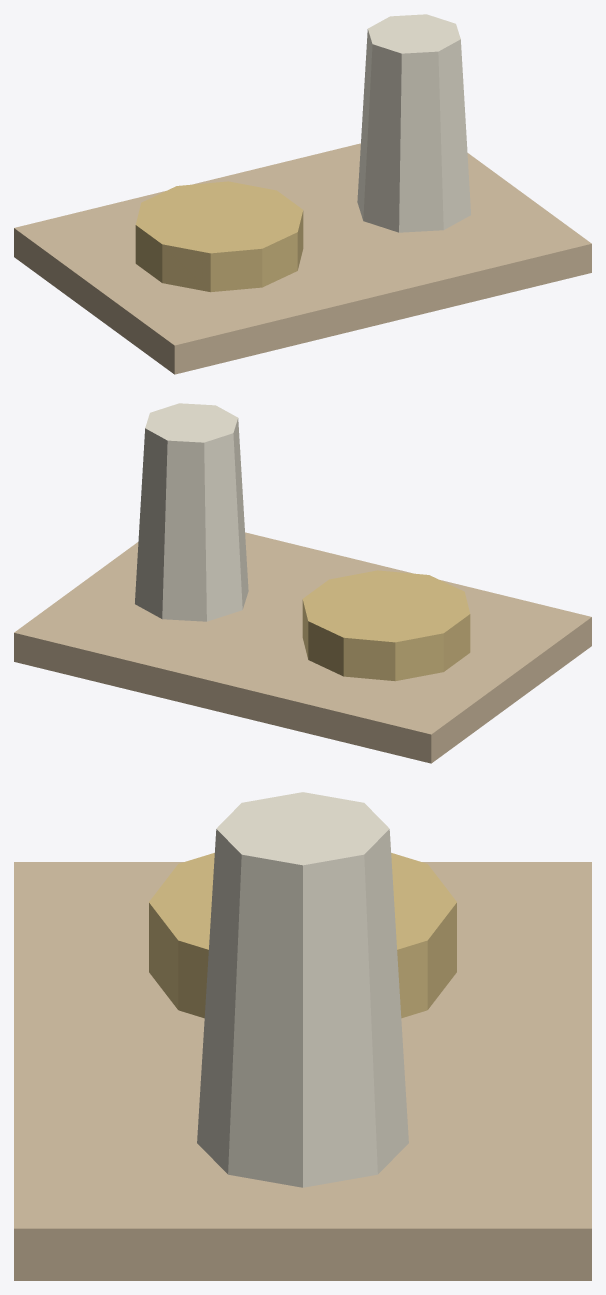
Rendered from prop-matrix-blank.fbx.
3 views of the same model, one above another, from view 1: azimuth 30°, elevation 25°; view 2: azimuth 150°, elevation 25°; view 3: azimuth 270°, elevation 25° (orthographic). The views are drawn at different scales.
Visible parts, largest first — view 1: prop-matrix-blank; view 2: prop-matrix-blank; view 3: prop-matrix-blank.
Boxes of the visible parts, x1,y1,x2,y2 form: prop-matrix-blank: [14, 14, 591, 374]; prop-matrix-blank: [14, 403, 591, 763]; prop-matrix-blank: [14, 792, 591, 1280].
Size of the model in its own units: 9 by 4.2 by 6.
